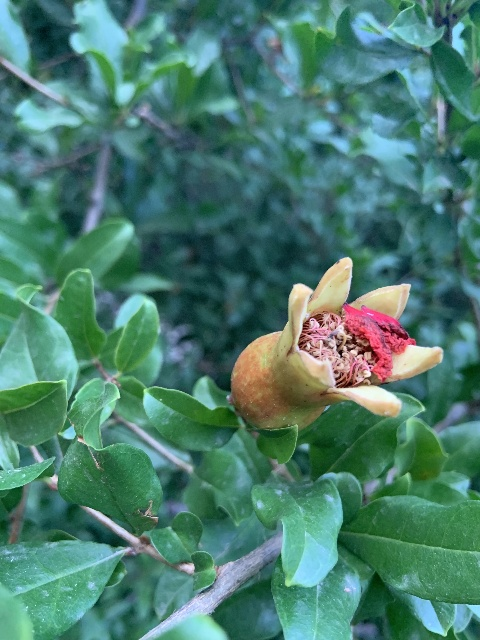early-fruit: (230, 256, 443, 430)
